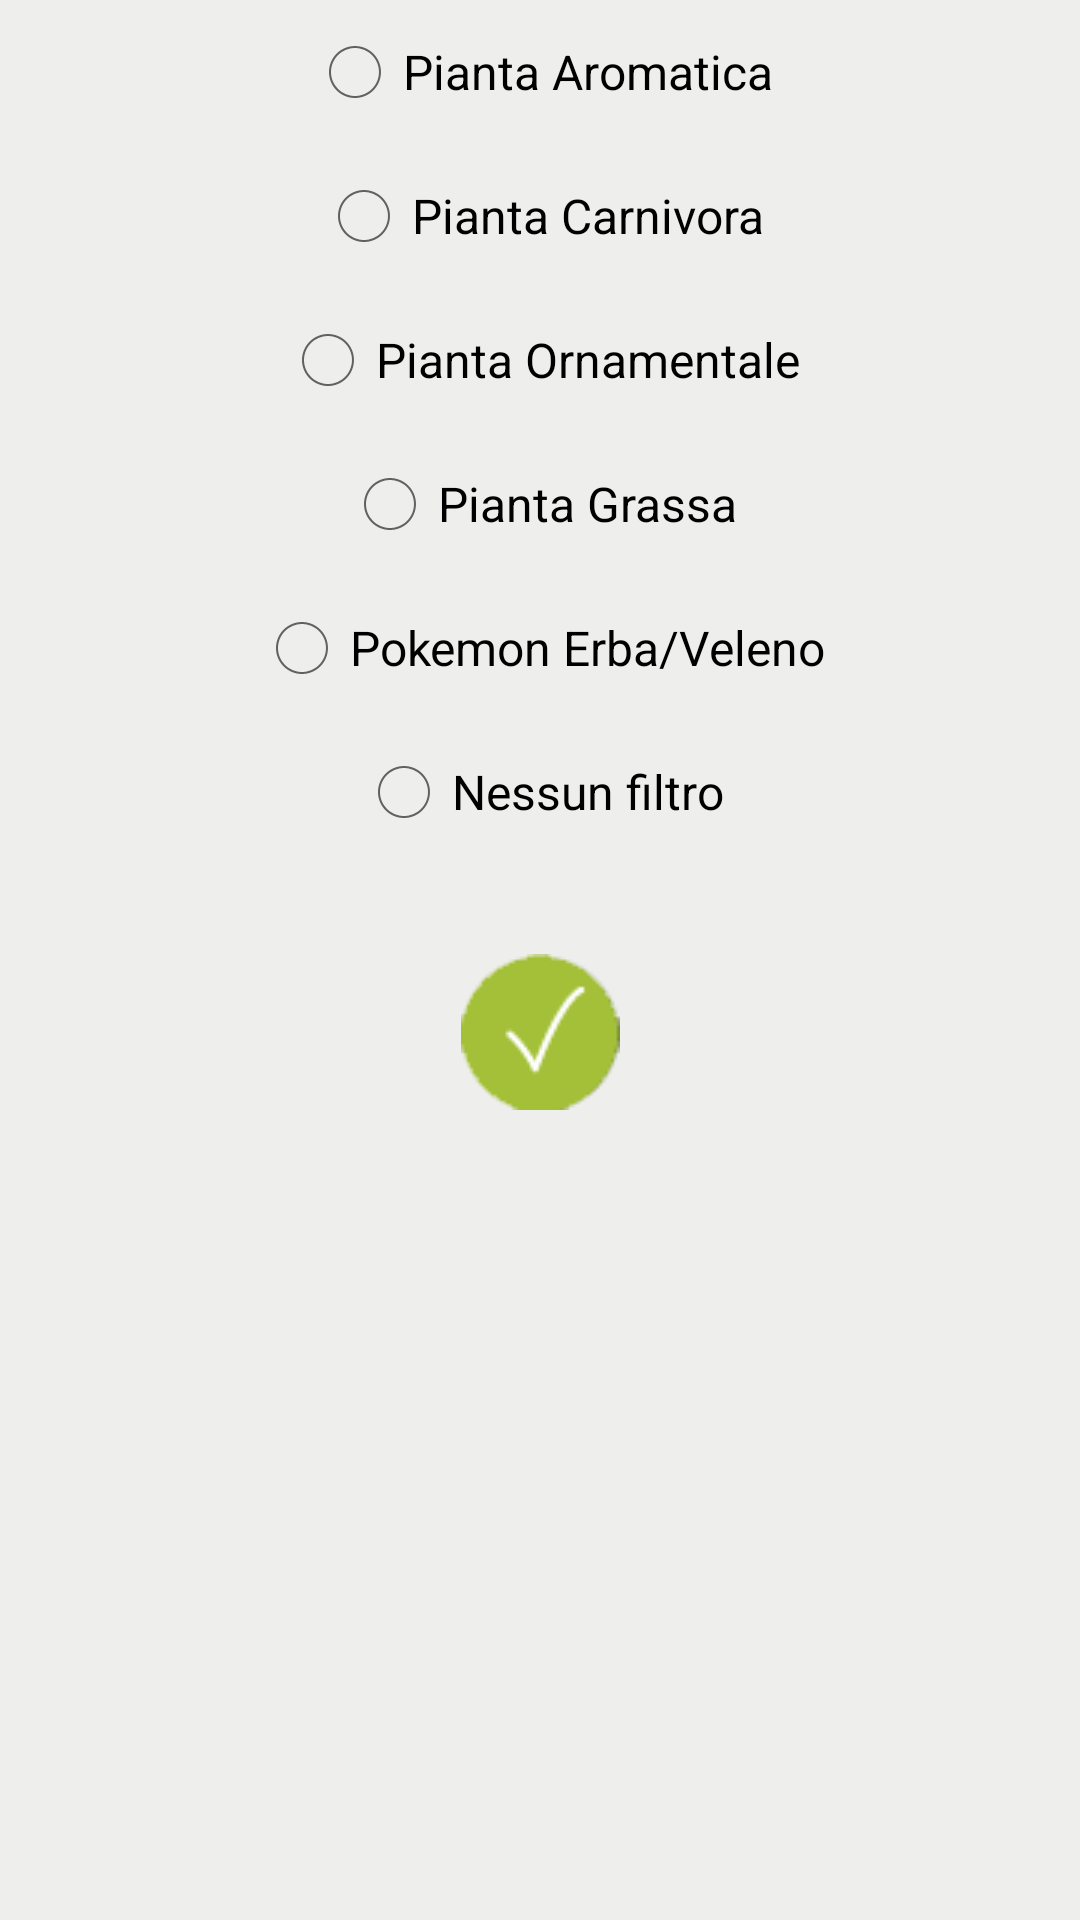

Named icons in this screenshot (1080px×1920px) and their centers, (x=x, y=y):
fatto no sfondo: (x=540, y=1032)
